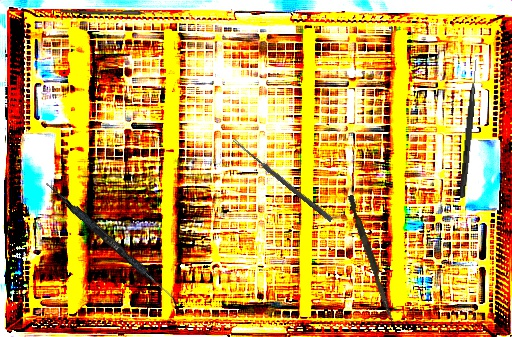Hook Surgical: (459, 58, 479, 199)
Pusher: (344, 194, 399, 323)
Spatula Surgical: (41, 180, 183, 306)
Surgical Spoon: (231, 137, 334, 223), (61, 10, 168, 15)
